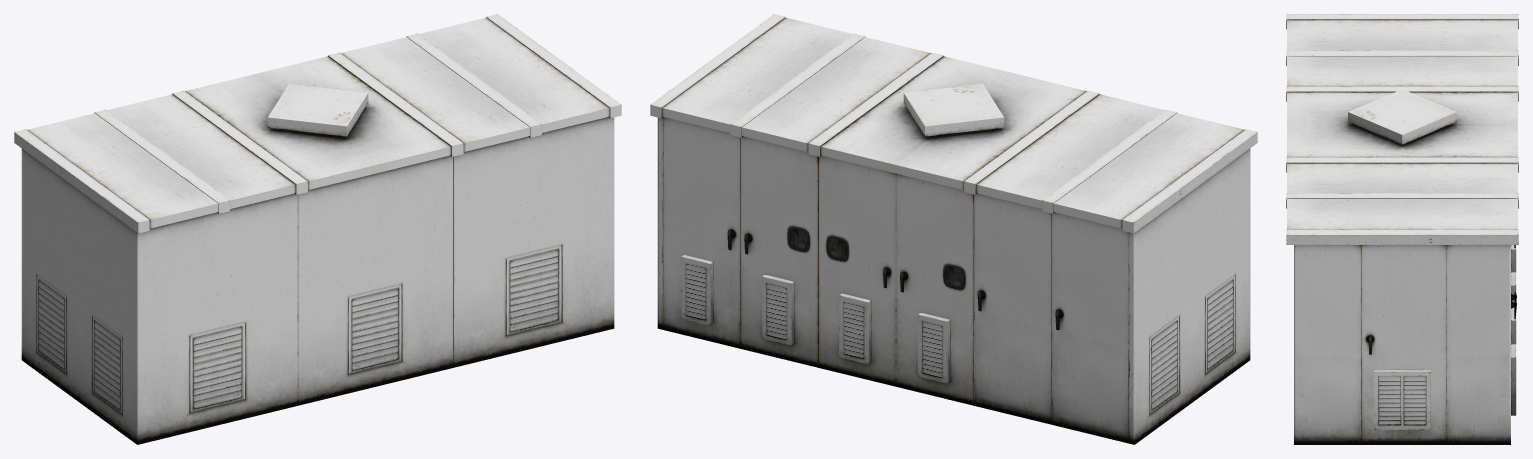
The model's file is S_RooftopBoxes_07.dae.
The picture shows the model from 3 angles, left to right: view 1: azimuth 30°, elevation 25°; view 2: azimuth 150°, elevation 25°; view 3: azimuth 270°, elevation 25°; orthographic projection. The views are drawn at different scales.
Visible parts, largest first — view 1: S_RooftopBoxes_07.003; view 2: S_RooftopBoxes_07.003; view 3: S_RooftopBoxes_07.003.
Boxes of the visible parts, x1,y1,x2,y2 form: S_RooftopBoxes_07.003: (14,14,621,444); S_RooftopBoxes_07.003: (650,14,1257,444); S_RooftopBoxes_07.003: (1286,14,1518,444).
Bounding box in the file's own units: 591 × 261 × 278.
